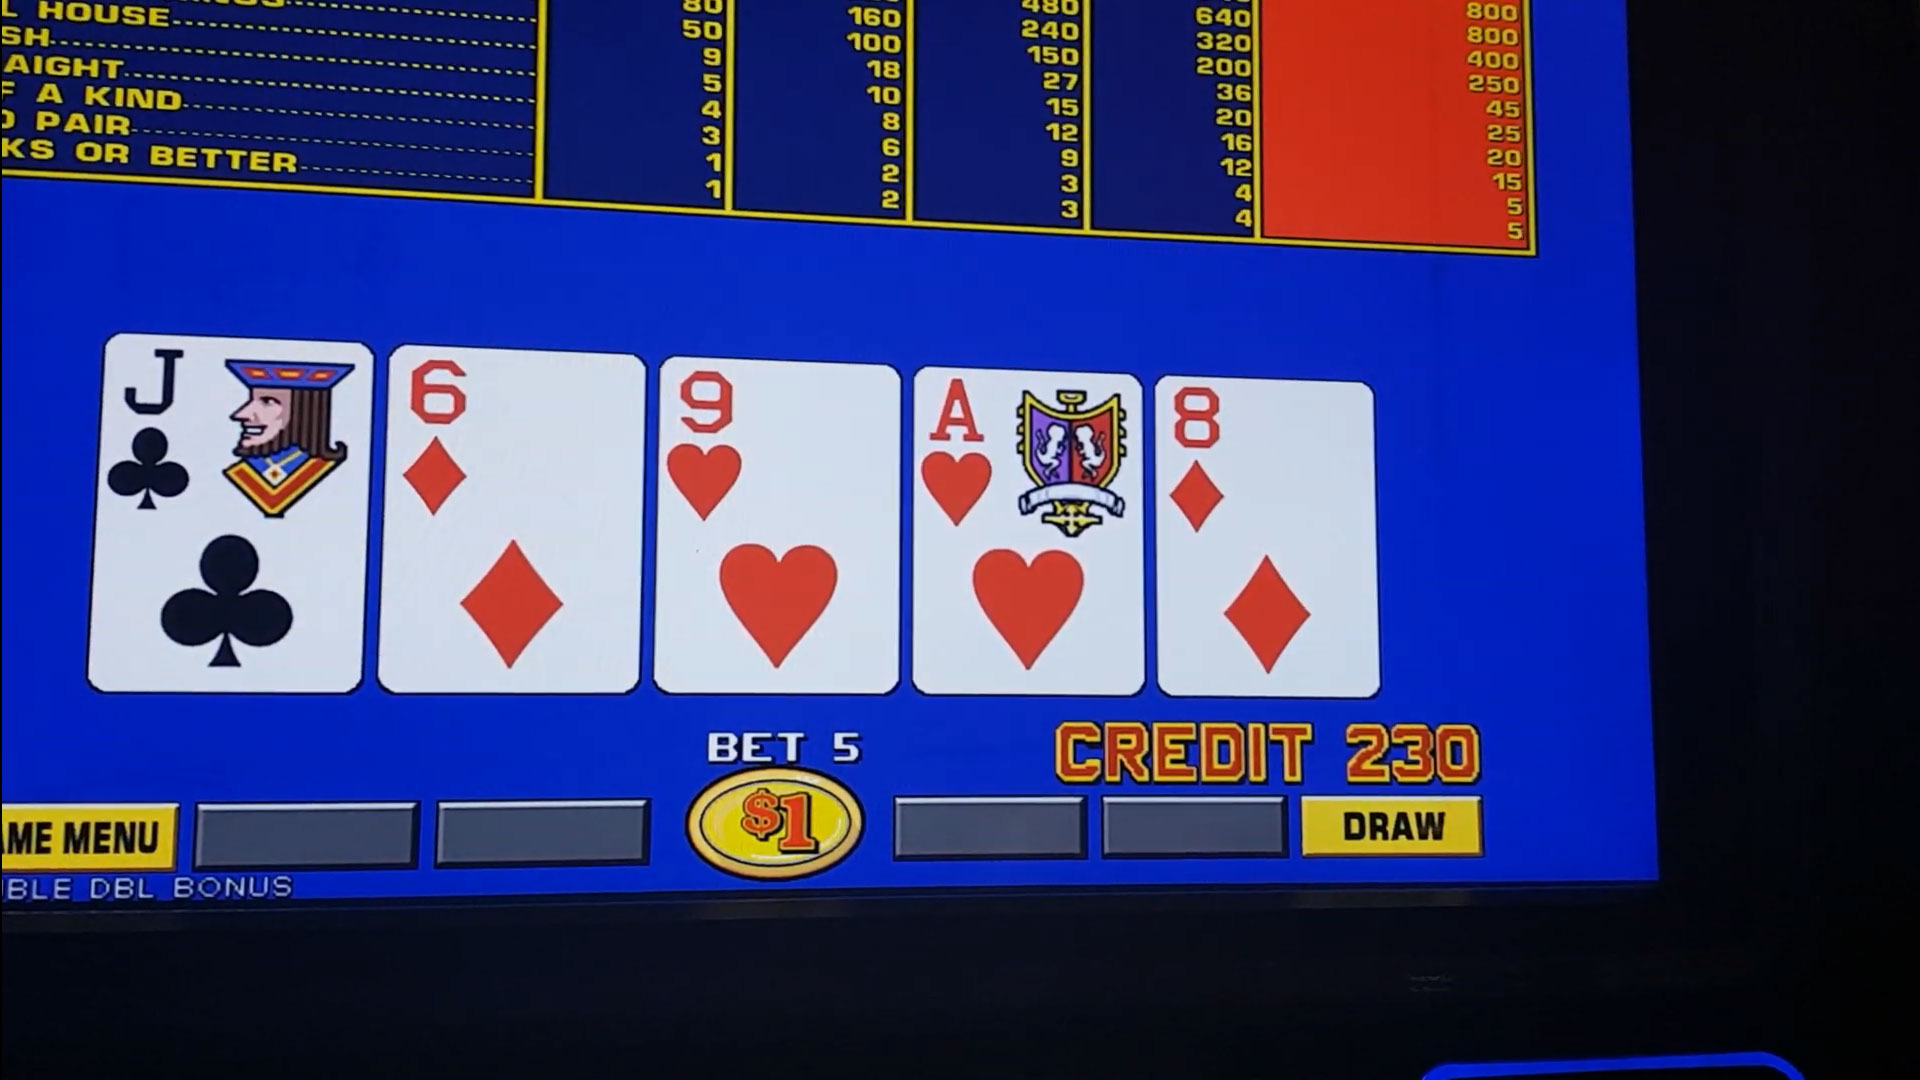CJ: (105, 347, 360, 524)
D6: (393, 356, 642, 526)
D8: (1160, 377, 1362, 546)
H9: (667, 363, 898, 530)
HA: (914, 373, 1135, 533)
